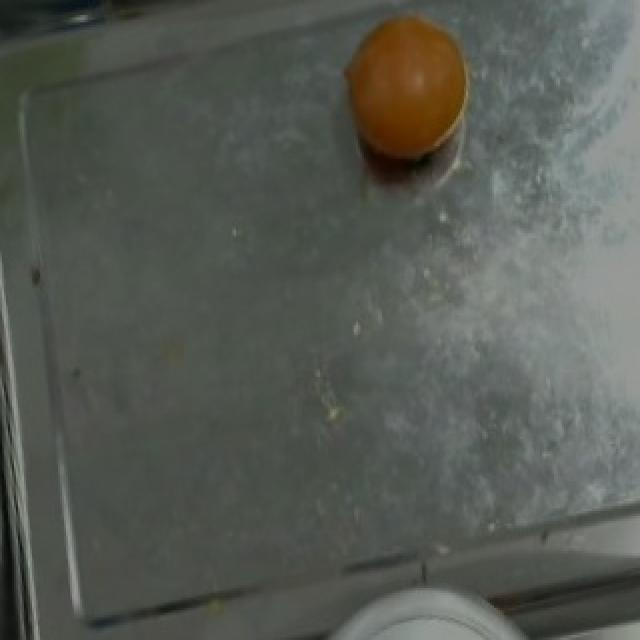Fruit: (324, 0, 492, 184)
